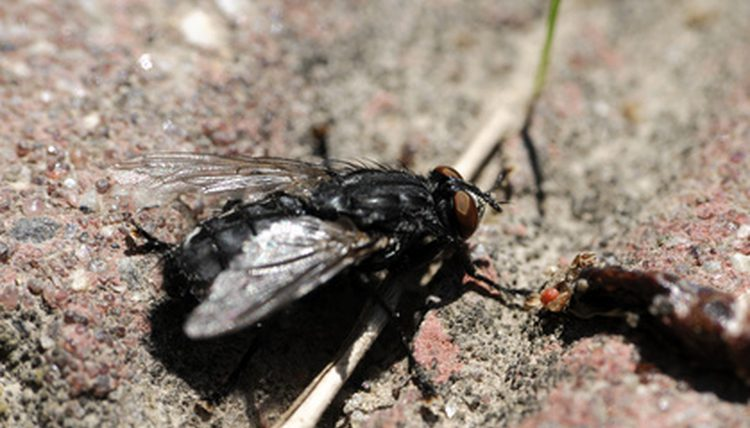phorid fly: (94, 98, 541, 395)
